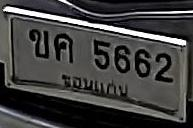number: (25, 22, 174, 83)
province: (58, 71, 129, 100)
